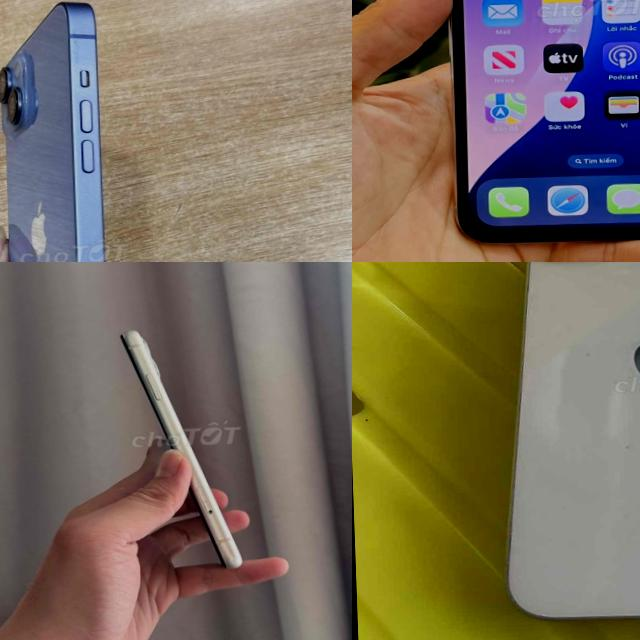gen_11: (429, 0, 640, 254), (122, 330, 241, 568)
gen_12_13: (479, 262, 640, 627)
gen_14: (0, 0, 124, 262)
